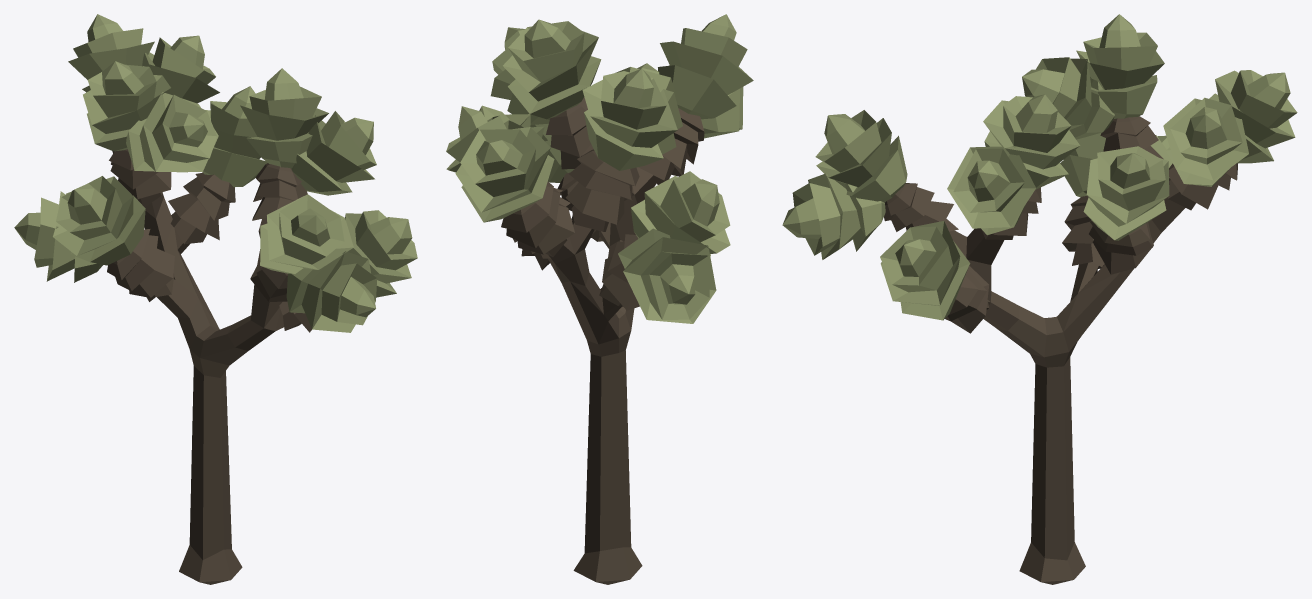
File: SM_Env_Tree_Desert_01.glb
3 renders of one model, left to right at view 1: azimuth 30°, elevation 25°; view 2: azimuth 150°, elevation 25°; view 3: azimuth 270°, elevation 25°, orthographic. The views are drawn at different scales.
Parts seen in each view (by area): view 1: SM_Env_Tree_Desert_01; view 2: SM_Env_Tree_Desert_01; view 3: SM_Env_Tree_Desert_01.
Part boxes in pixels (bbox=[...]): SM_Env_Tree_Desert_01: bbox=[14, 14, 417, 584]; SM_Env_Tree_Desert_01: bbox=[446, 14, 753, 584]; SM_Env_Tree_Desert_01: bbox=[782, 14, 1297, 584].
Bounding box in the file's own units: 3.08 × 5.51 × 4.78.
Materials: 1 (1 with a texture image).
